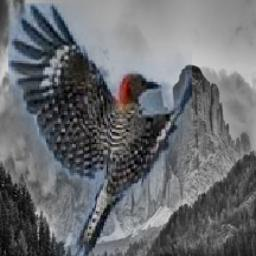Woodpecker: (9, 3, 193, 256)
